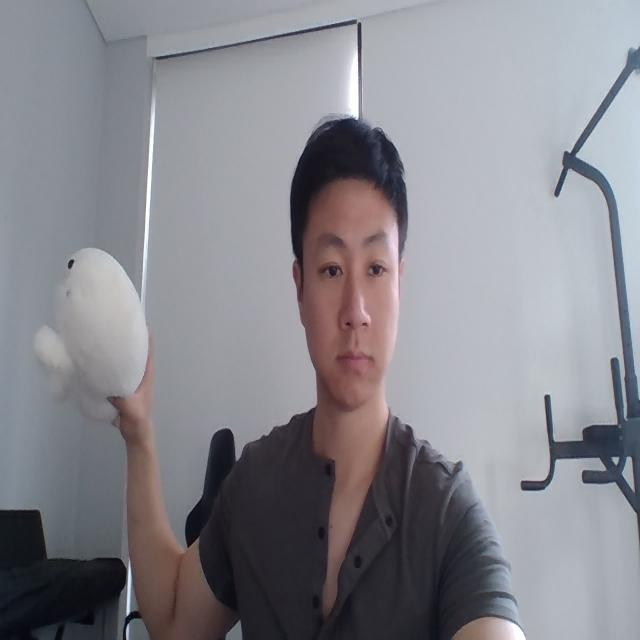seal_bb: (32, 244, 150, 426)
